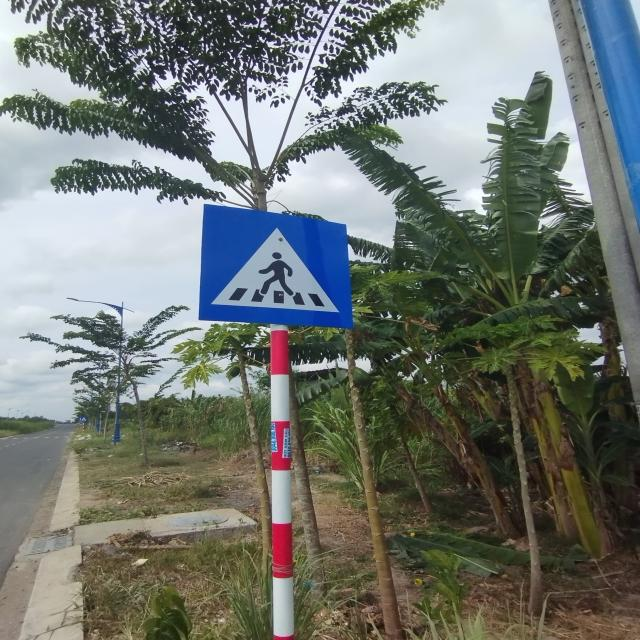Giao_Nhau_Duong_Uu_Tien: (200, 204, 352, 330)
